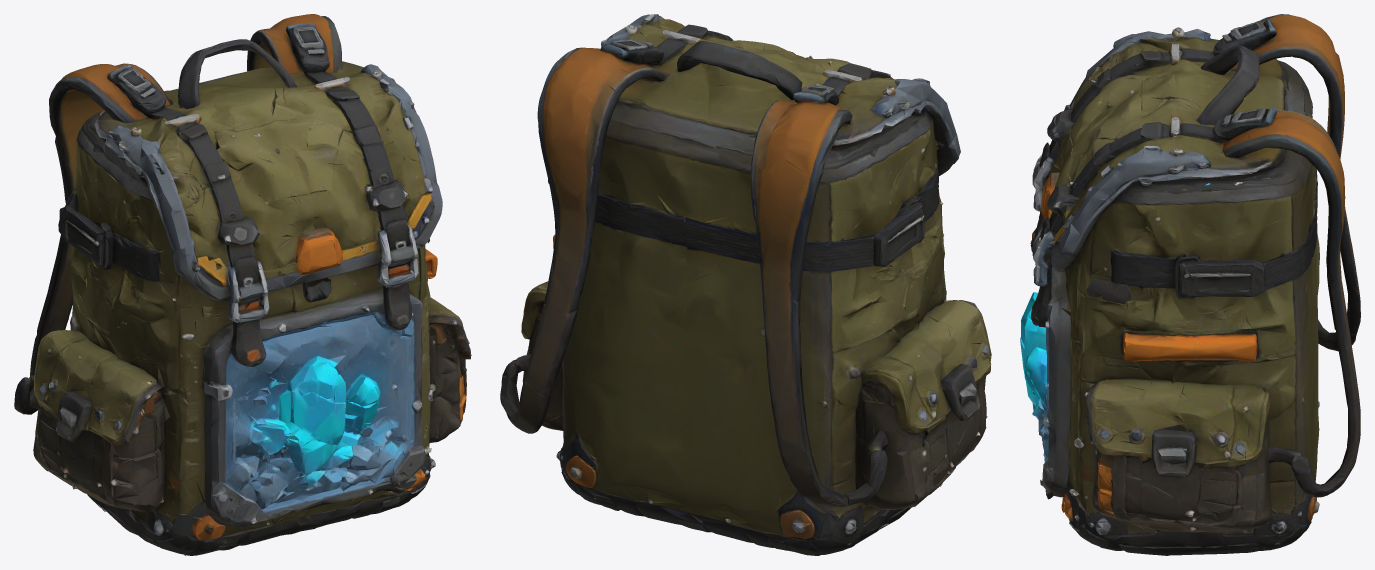
The model's file is sac-ferme.glb.
3 views of the same model, side by side, from view 1: azimuth 30°, elevation 25°; view 2: azimuth 150°, elevation 25°; view 3: azimuth 270°, elevation 25° (orthographic). The views are drawn at different scales.
Bounding box in the file's own units: 0.9181 × 0.9793 × 0.6822.
1 material, 1 textured.
